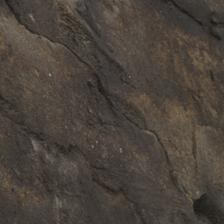Crack: (0, 68, 168, 154), (55, 0, 130, 94), (28, 166, 78, 213)
